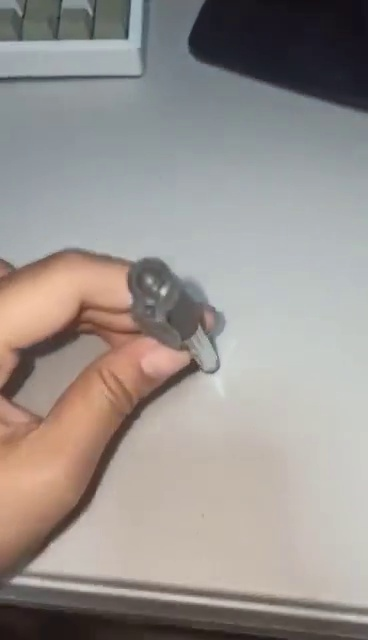ballpen: (125, 253, 225, 381)
hand: (1, 247, 215, 588)
